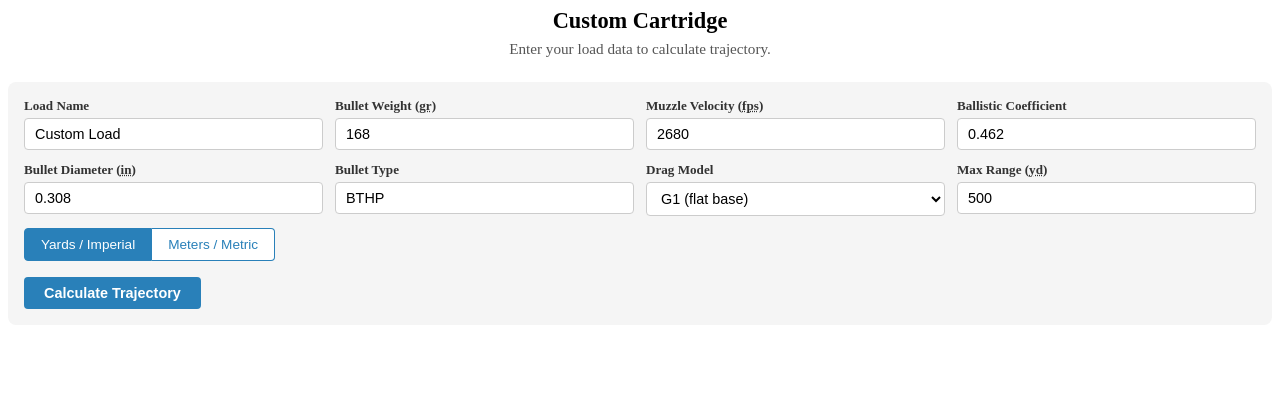
Test: CustomCartridgePage › shows error on calculation failure
Click the button "Calculate Trajectory" at (112, 293), box [24,277,201,309]
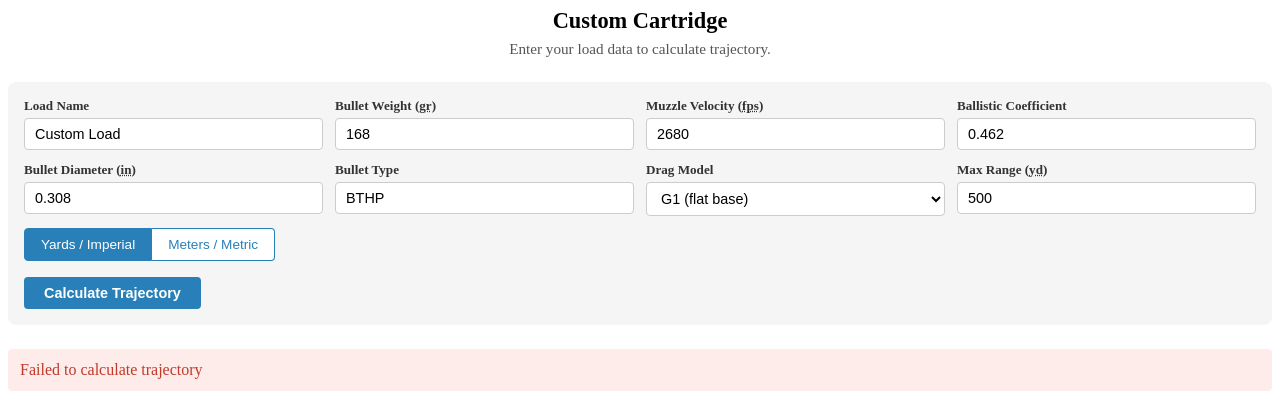
Now the text "Failed to calculate trajectory" is shown, box [8,349,1272,391]
